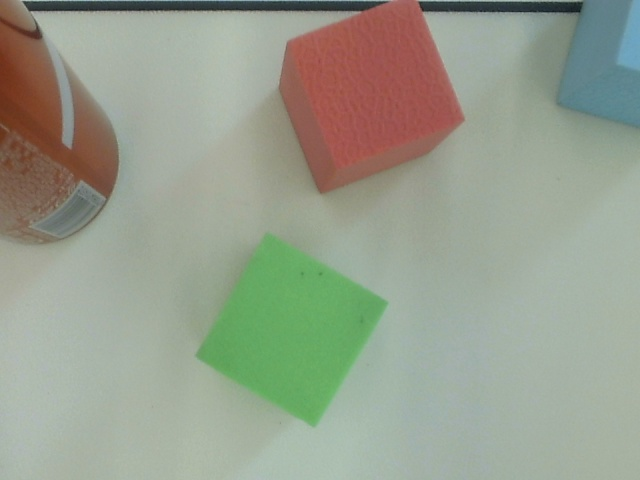bluecube: (551, 1, 640, 139)
cola: (1, 1, 133, 246)
greencube: (186, 229, 394, 428)
redcube: (277, 1, 469, 204)
